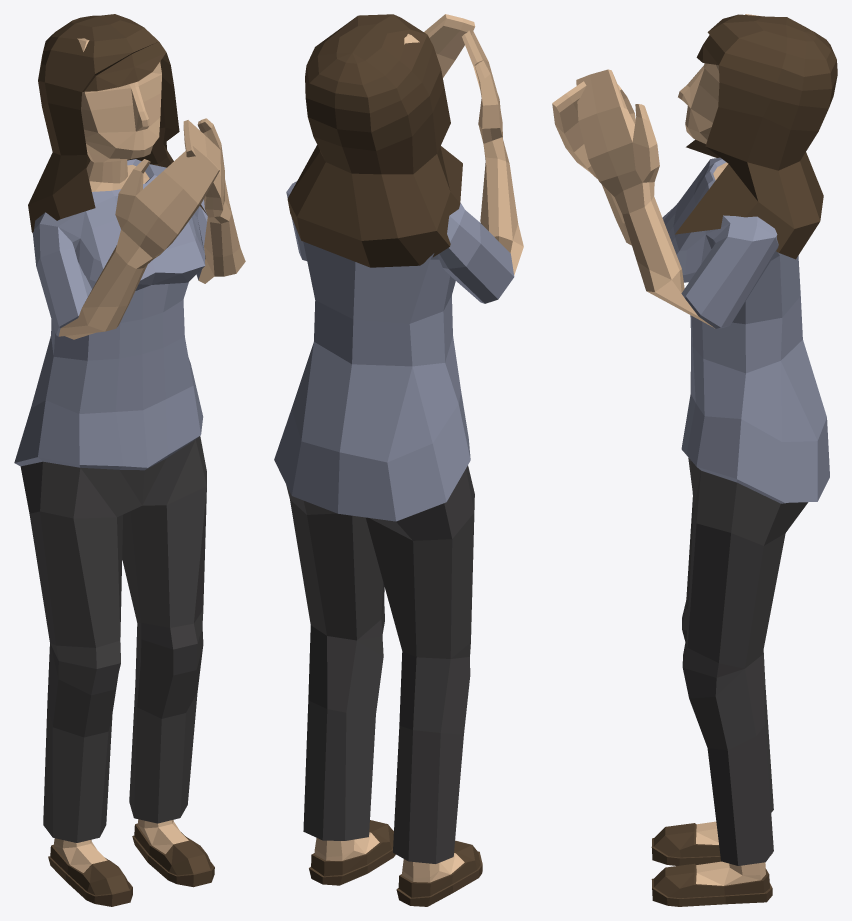
The model's file is Female_Crowd_Shouting.glb.
3 renders of one model, left to right at view 1: azimuth 30°, elevation 25°; view 2: azimuth 150°, elevation 25°; view 3: azimuth 270°, elevation 25°, orthographic. The views are drawn at different scales.
Parts seen in each view (by area): view 1: Female_Crowd_Shouting; view 2: Female_Crowd_Shouting; view 3: Female_Crowd_Shouting.
Boxes of the visible parts, x1=… form: Female_Crowd_Shouting: x1=14, y1=14, x2=245, y2=906; Female_Crowd_Shouting: x1=274, y1=14, x2=523, y2=906; Female_Crowd_Shouting: x1=552, y1=14, x2=837, y2=906.
Size of the model in its own units: 0.395 by 1.66 by 0.5024.
